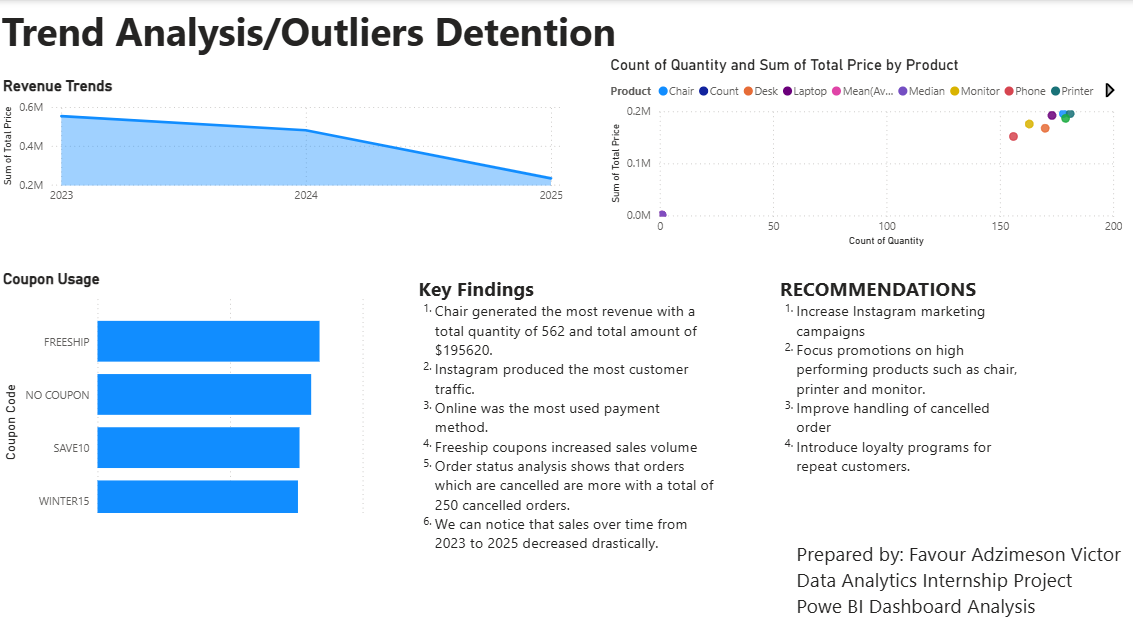

This screenshot's page, from the dashboard's own definition file:
{"tool":"powerbi","page":{"name":"Trend/Outlier Detection Analysis","canvas":[1280,720],"ordinal":1},"visuals":[{"type":"textbox","box":[9.9,0,740.4,84.5],"z":0},{"type":"areaChart","title":"Revenue Trends","fields":{"Category":["Cleaned_dataset.Date.Variation.Date Hierarchy.Year","Cleaned_dataset.Date.Variation.Date Hierarchy.Quarter","Cleaned_dataset.Date.Variation.Date Hierarchy.Month","Cleaned_dataset.Date.Variation.Date Hierarchy.Day"],"Y":["Sum(Cleaned_dataset.Total Price)"]},"box":[11.6,84.5,627.8,149.1],"z":1000},{"type":"barChart","title":"Coupon Usage","fields":{"Category":["Cleaned_dataset.Coupon Code"],"Y":["Sum(Cleaned_dataset.Total Price)"]},"box":[11.6,298.2,420.7,344.5],"z":2000},{"type":"scatterChart","fields":{"X":["CountNonNull(Cleaned_dataset.Quantity)"],"Y":["Sum(Cleaned_dataset.Total Price)"],"Series":["Cleaned_dataset.Product"]},"box":[682.5,61.3,574.8,215.3],"z":3000},{"type":"textbox","box":[12,566,421,154],"z":4000},{"type":"textbox","box":[470.4,298.2,339.6,344.5],"z":5000},{"type":"textbox","box":[869.7,298.2,278.3,268.3],"z":6000},{"type":"textbox","box":[887.9,591.4,369.4,106],"z":7000}]}

Visuals, with their boxes in screenshot pixels (x1, y1, x2, y2), scaled from the page's 1280x720 canvas onto the 1133x637 screenshot:
textbox: crop(9, 0, 664, 75)
"Revenue Trends" areaChart: crop(10, 75, 566, 207)
"Coupon Usage" barChart: crop(10, 264, 383, 569)
scatterChart - CountNonNull(Cleaned_dataset.Quantity) x Sum(Cleaned_dataset.Total Price): crop(604, 54, 1113, 245)
textbox: crop(11, 501, 383, 636)
textbox: crop(416, 264, 717, 569)
textbox: crop(770, 264, 1016, 501)
textbox: crop(786, 523, 1113, 617)
